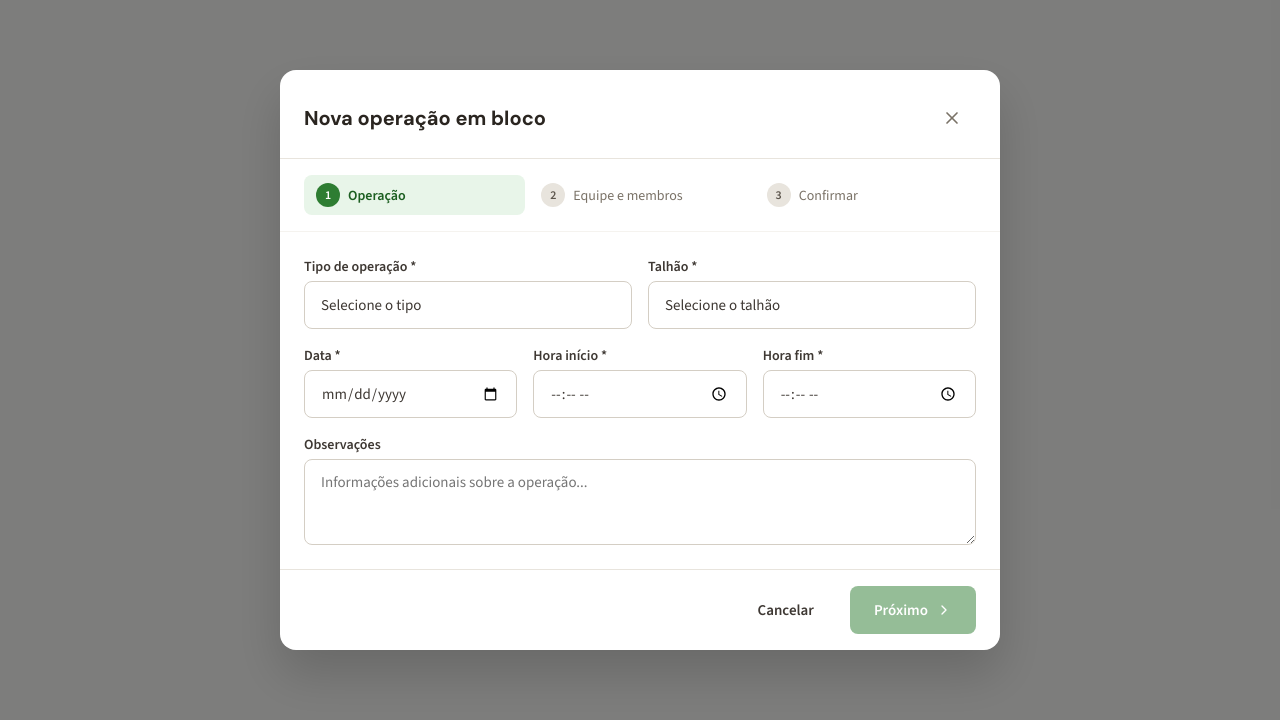
it: TeamOperationModal — CA4+CA6 Individual data › shows individual data toggle when members are selected
Select "Plantio" in the dropdown labelled "Tipo de operação *" at (468, 305), box [304,281,632,329]
Select "Talhão 01" in the dropdown labelled "Talhão *" at (812, 305), box [648,281,976,329]
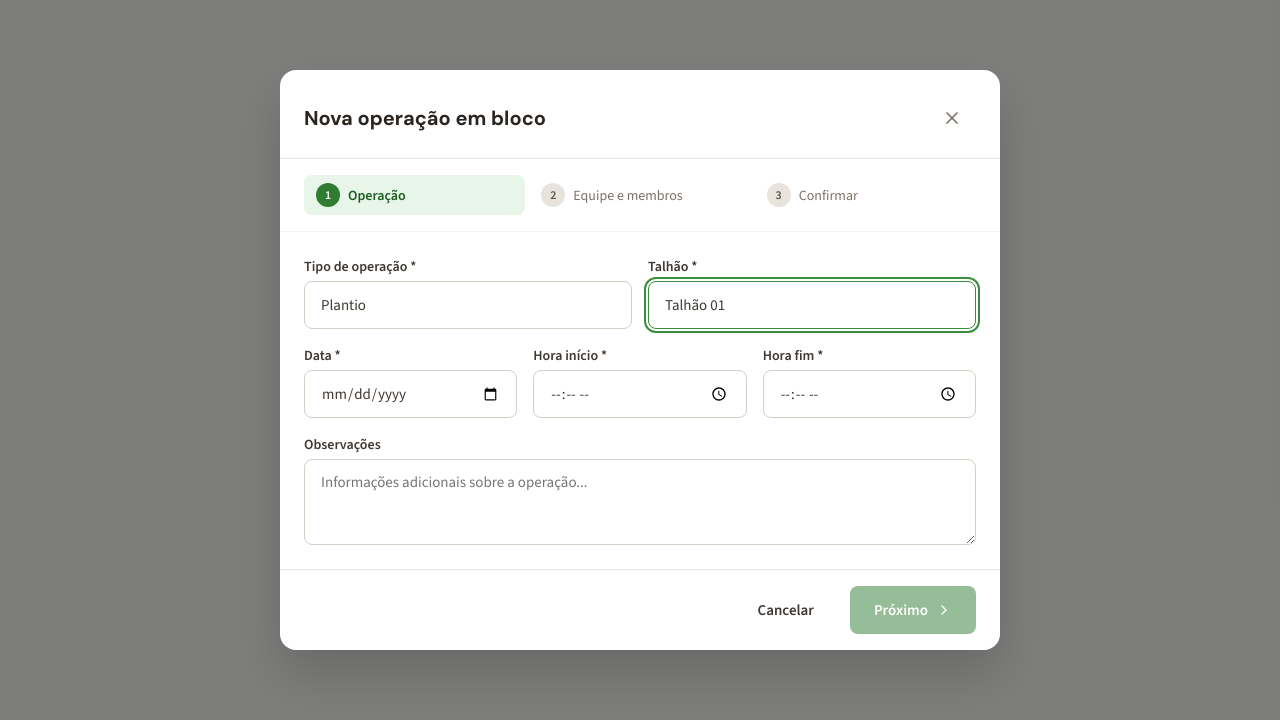
Type "2026-03-09" into the date field labelled "Data *" at (411, 394), box [304,370,517,418]
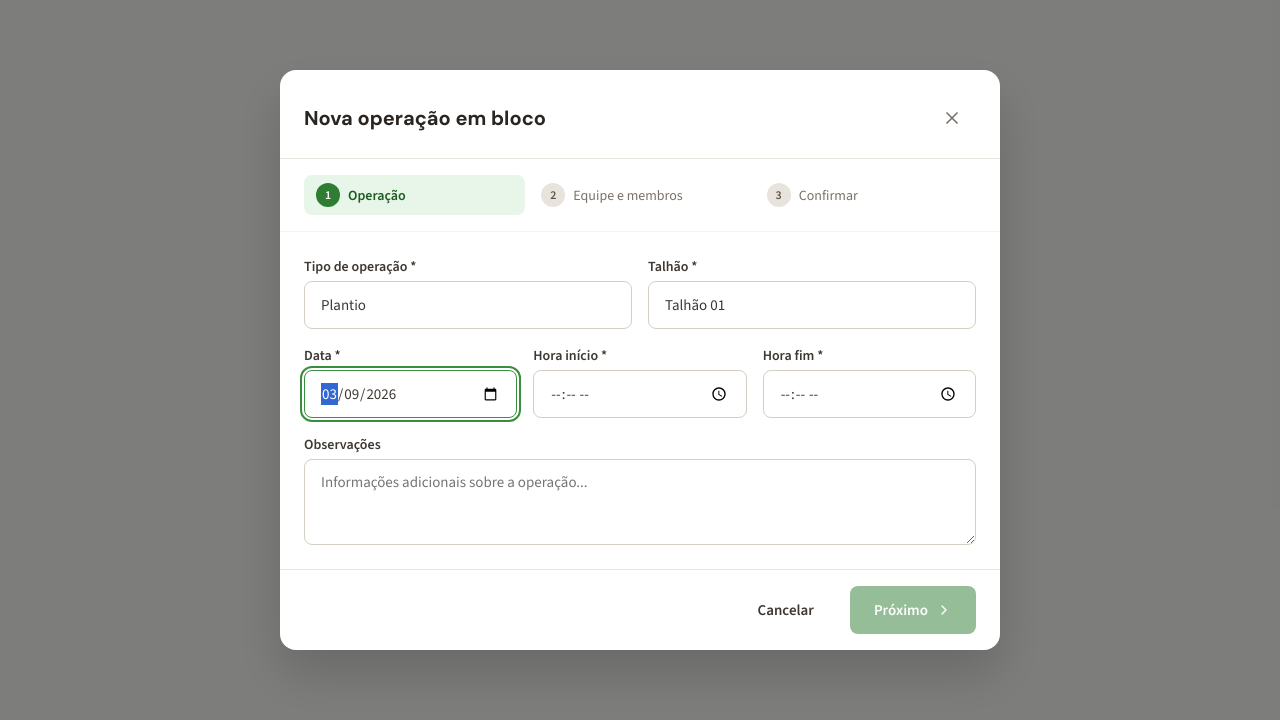
Type "08:00" into the time field labelled "Hora início *" at (640, 394), box [533,370,747,418]
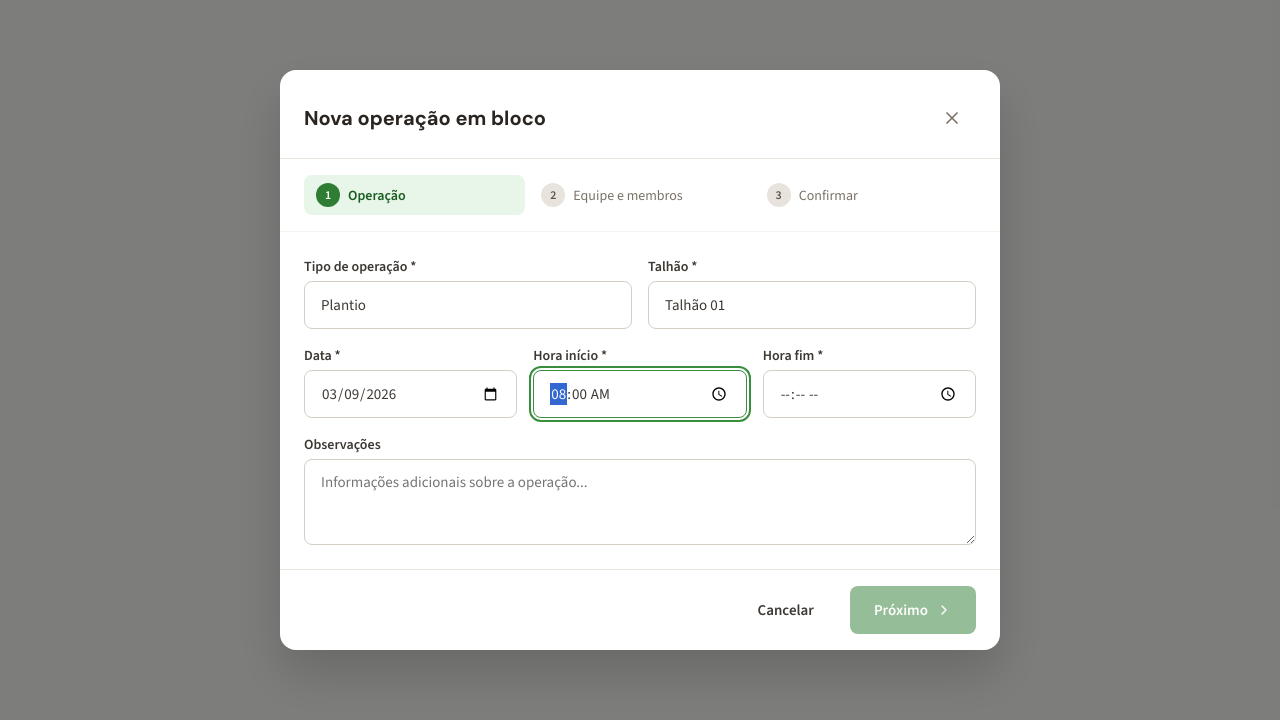
Type "16:00" into the time field labelled "Hora fim *" at (869, 394), box [763,370,976,418]
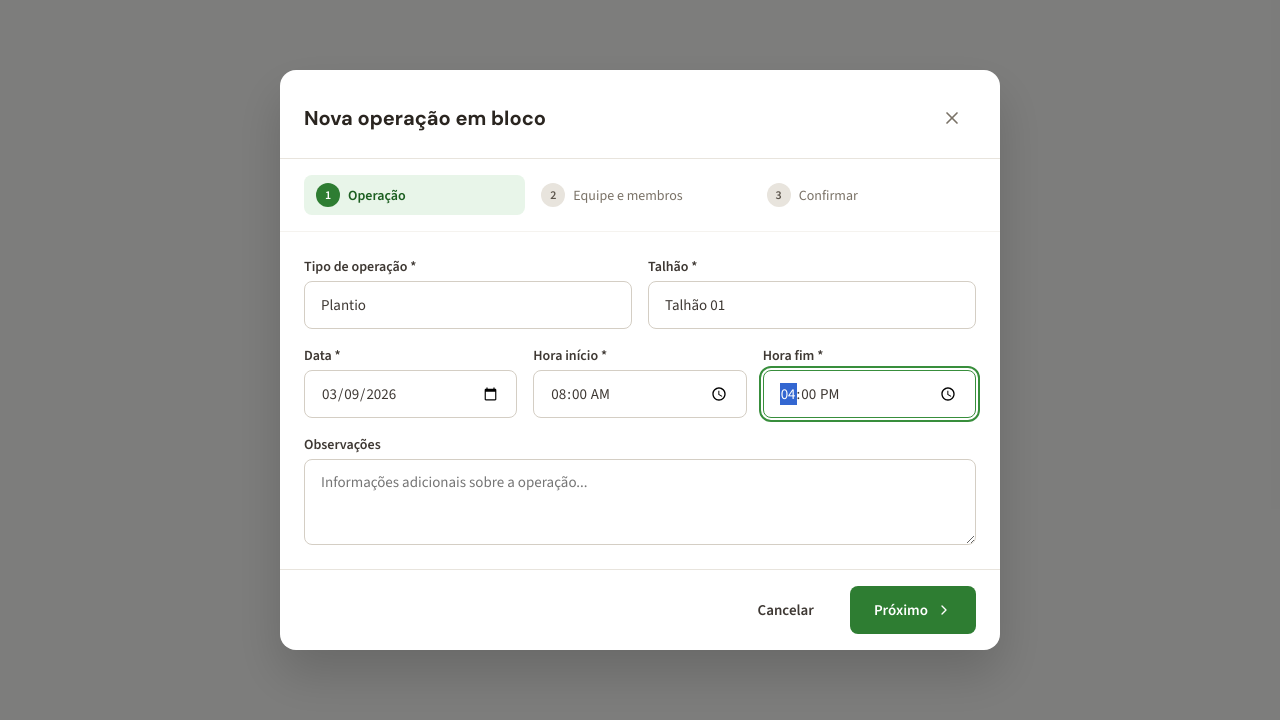
Click the button "Próximo" at (913, 610), box [850,586,976,634]
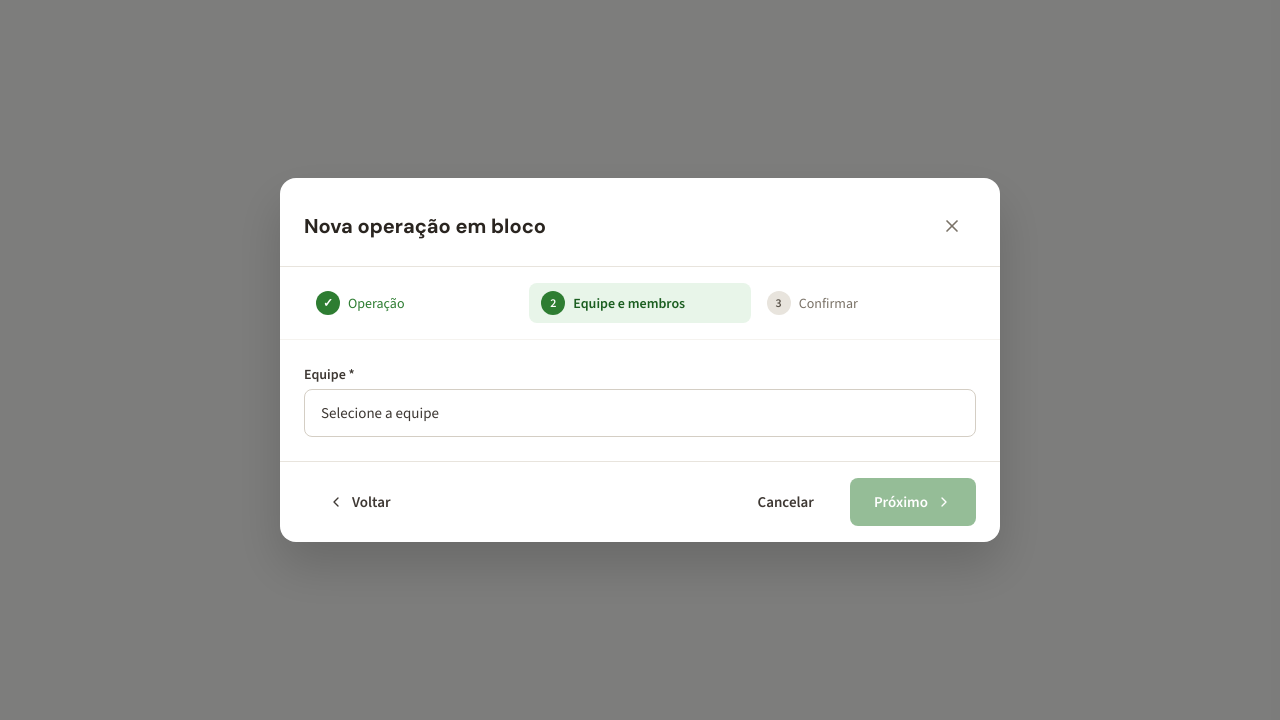
Expected: the dropdown labelled "Equipe *" is shown
Select "Equipe Alpha (2 membros)" in the dropdown labelled "Equipe *" at (640, 413), box [304,389,976,437]
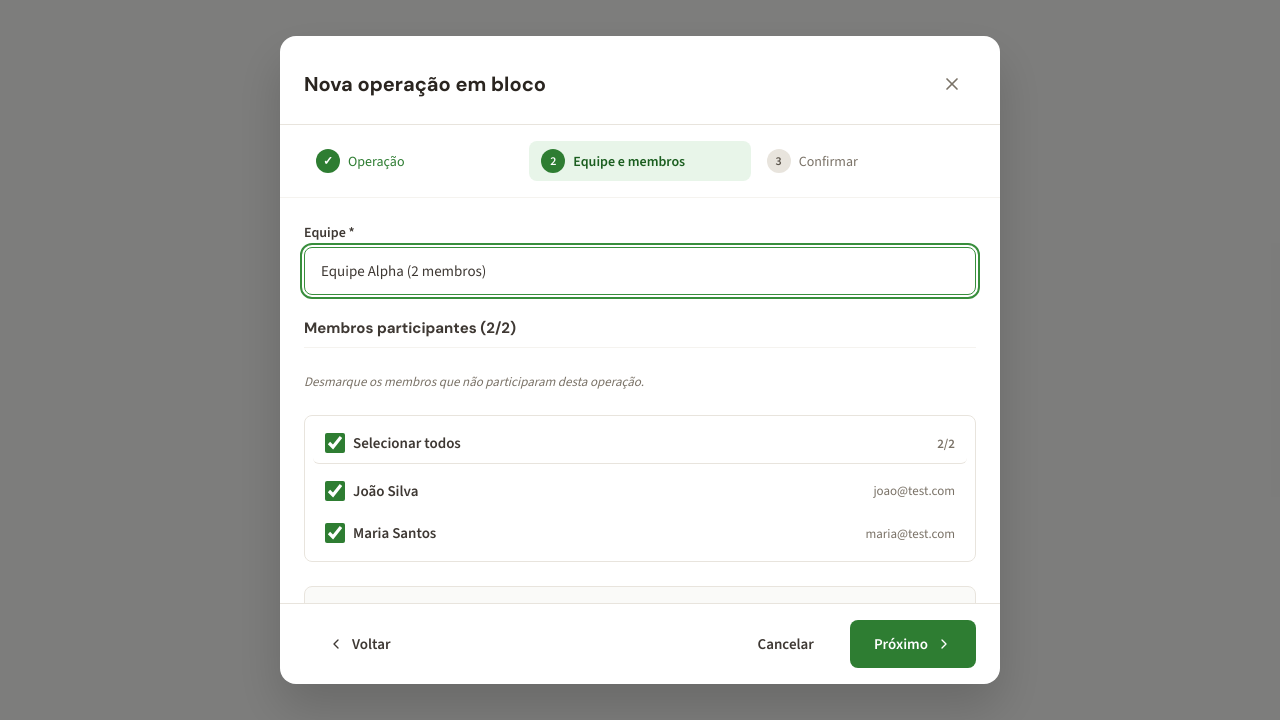
Expected: the text "João Silva" is shown, [353,480,418,502]
